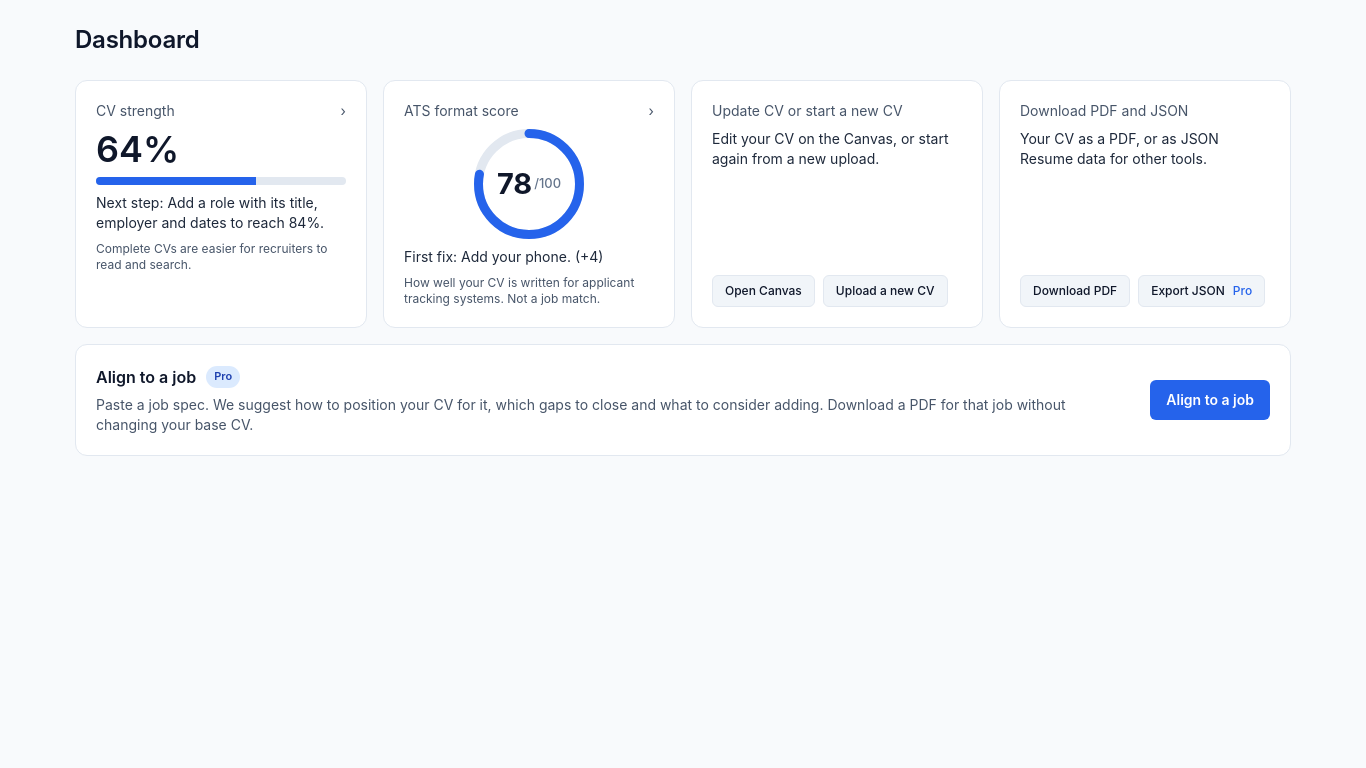
Test: dashboard › downloads the PDF and then lands on "what next"
Click the button "Download PDF" at point(1075, 291), box [1020,275,1130,307]
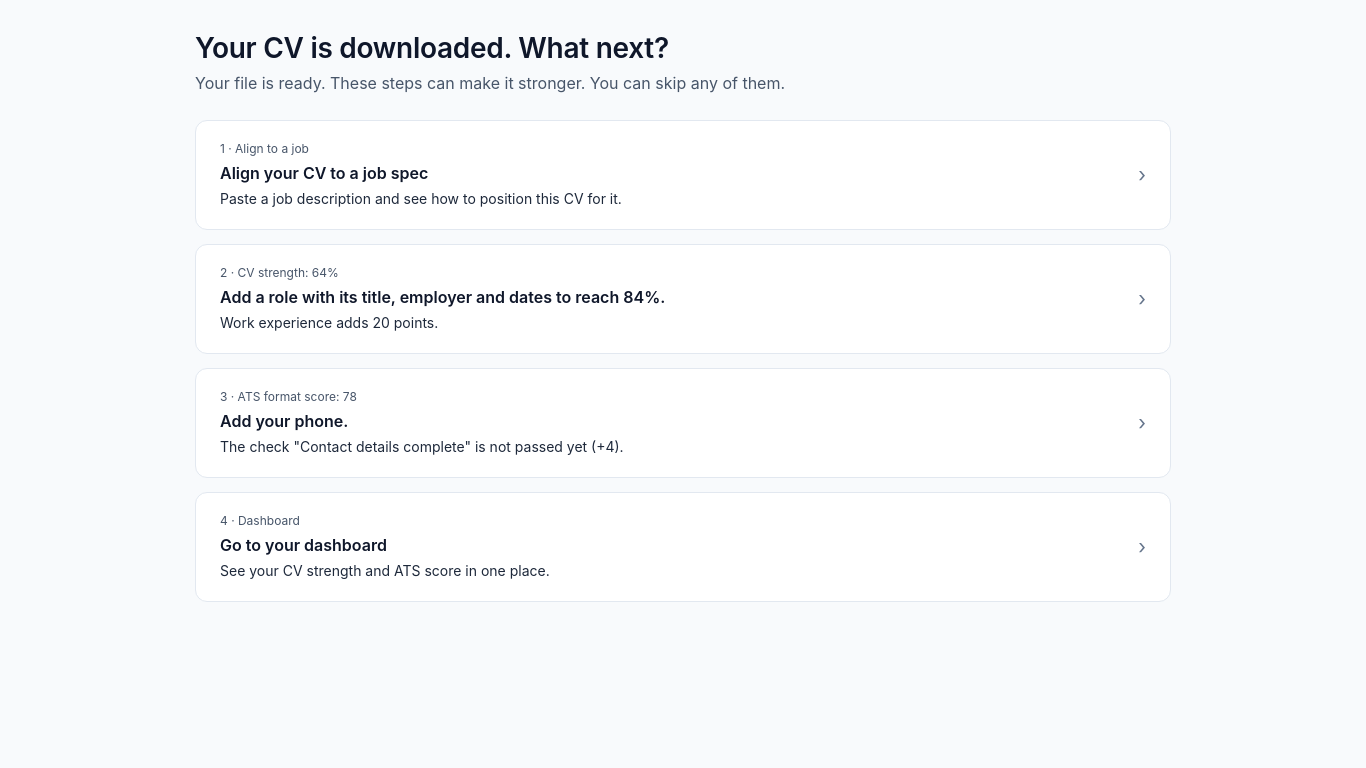
expect the heading "Your CV is downloaded. What next?" is shown: met, box [195,31,669,65]
